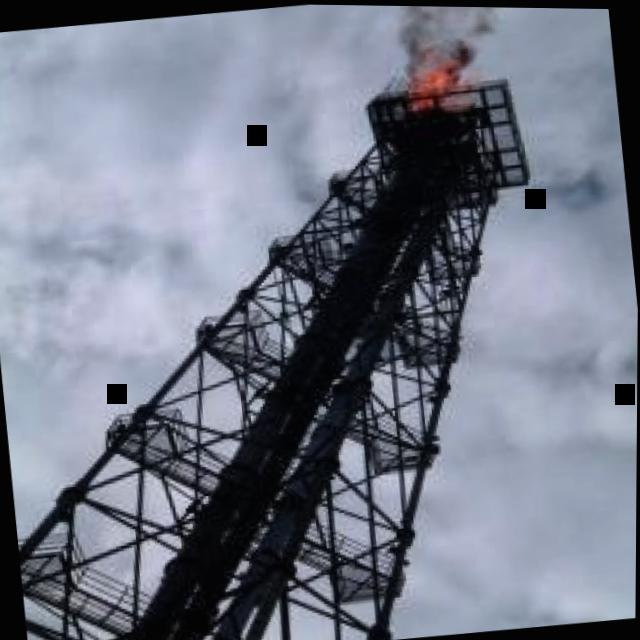fire: (409, 59, 473, 109)
smoke: (397, 5, 499, 80)
